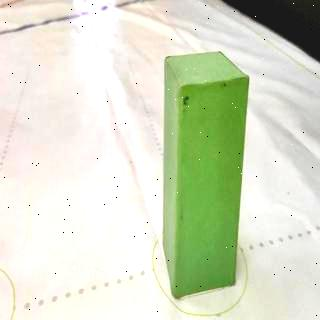greenbox: (162, 51, 249, 302)
